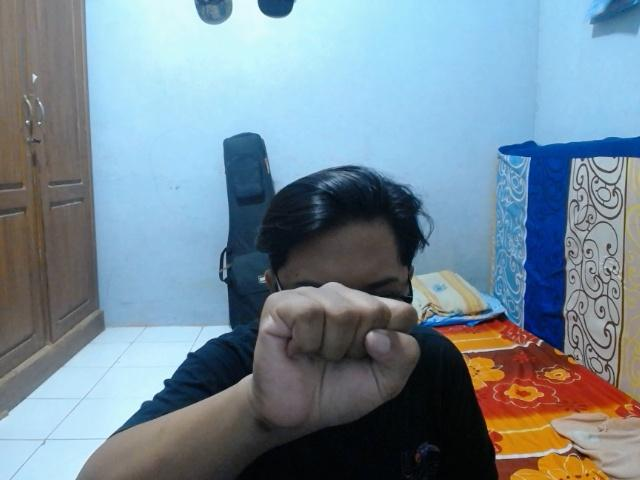Grab: (247, 281, 423, 442)
